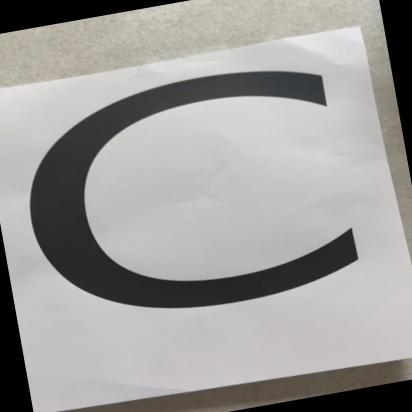seat: (0, 16, 412, 412)
